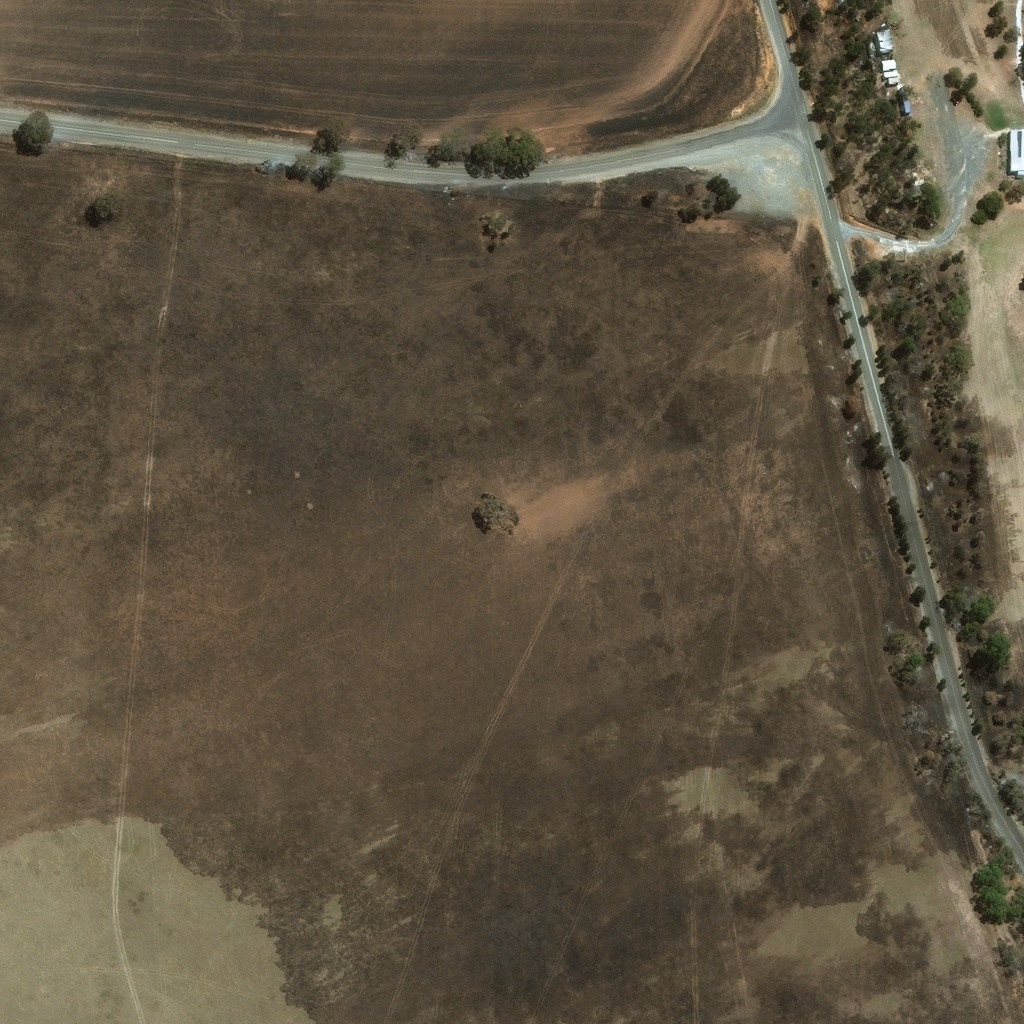0 no-damage: (1010, 129, 1023, 176), (884, 71, 902, 84), (882, 59, 896, 70)
1 minor-damage: (876, 30, 893, 54)
